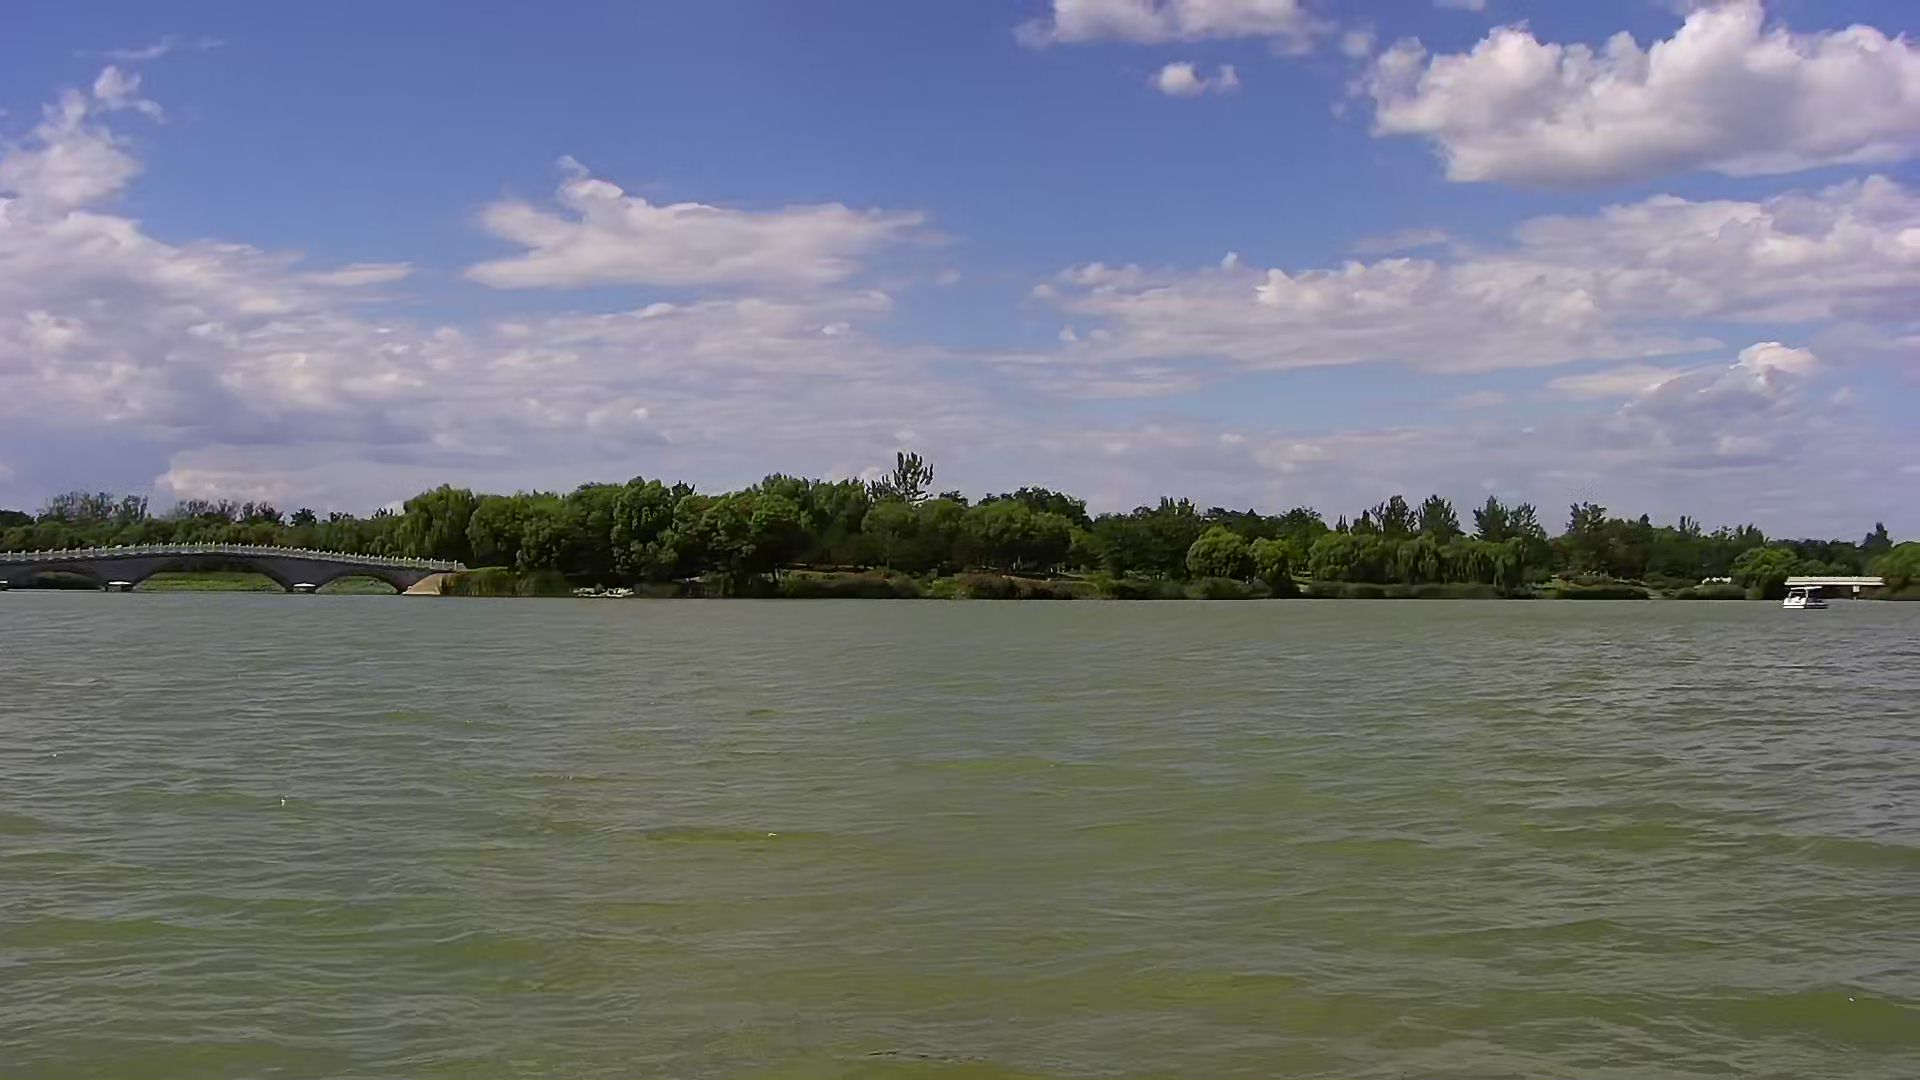bridge: (7, 535, 458, 604)
